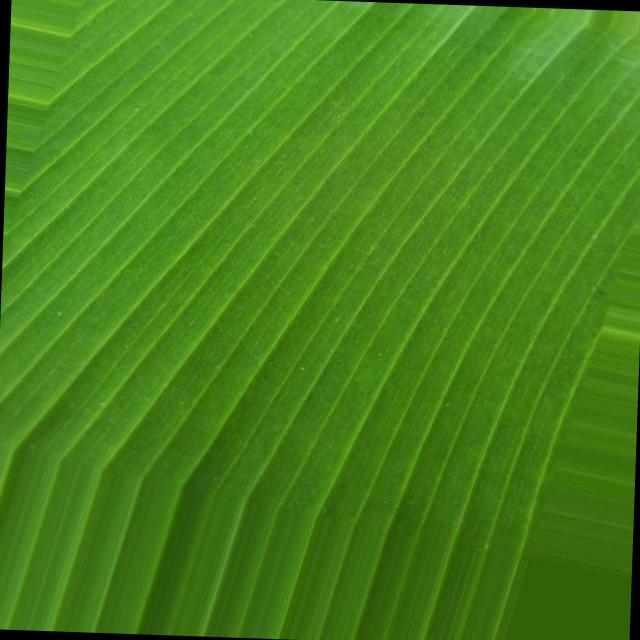Banana_Healthy: (97, 80, 516, 470)
